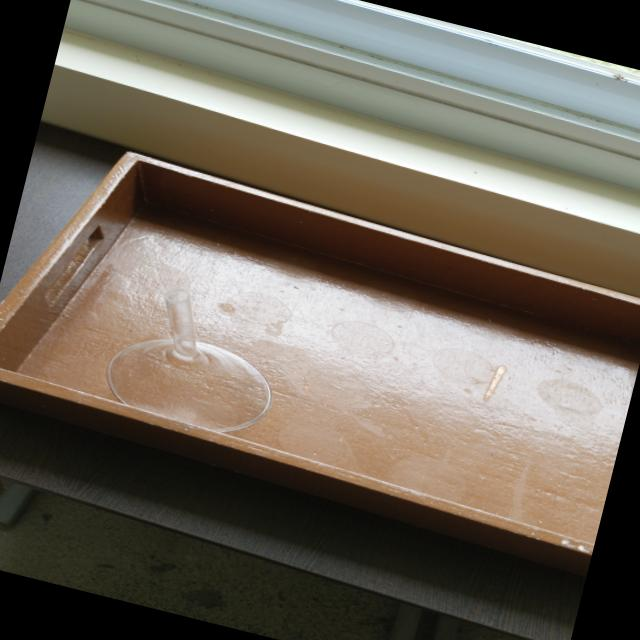funnel: (90, 269, 296, 446)
